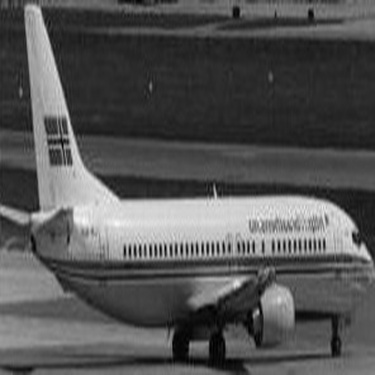airplane: (2, 6, 366, 373)
